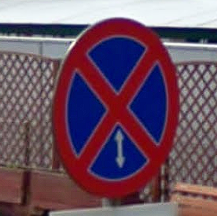oprirea_interzisa: (49, 14, 182, 205)
